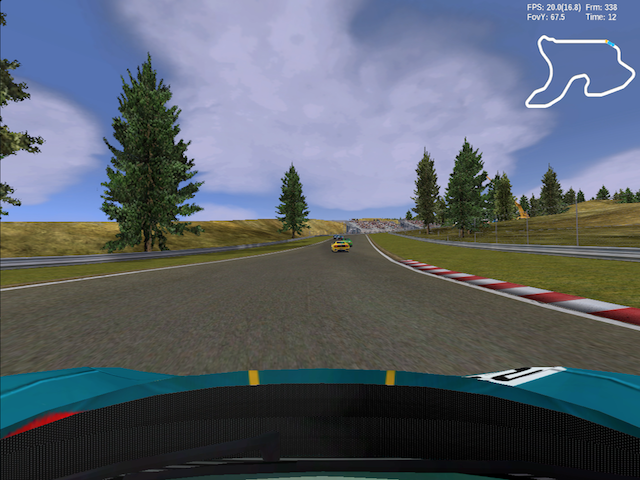Cavallo360: (329, 242, 350, 253)
